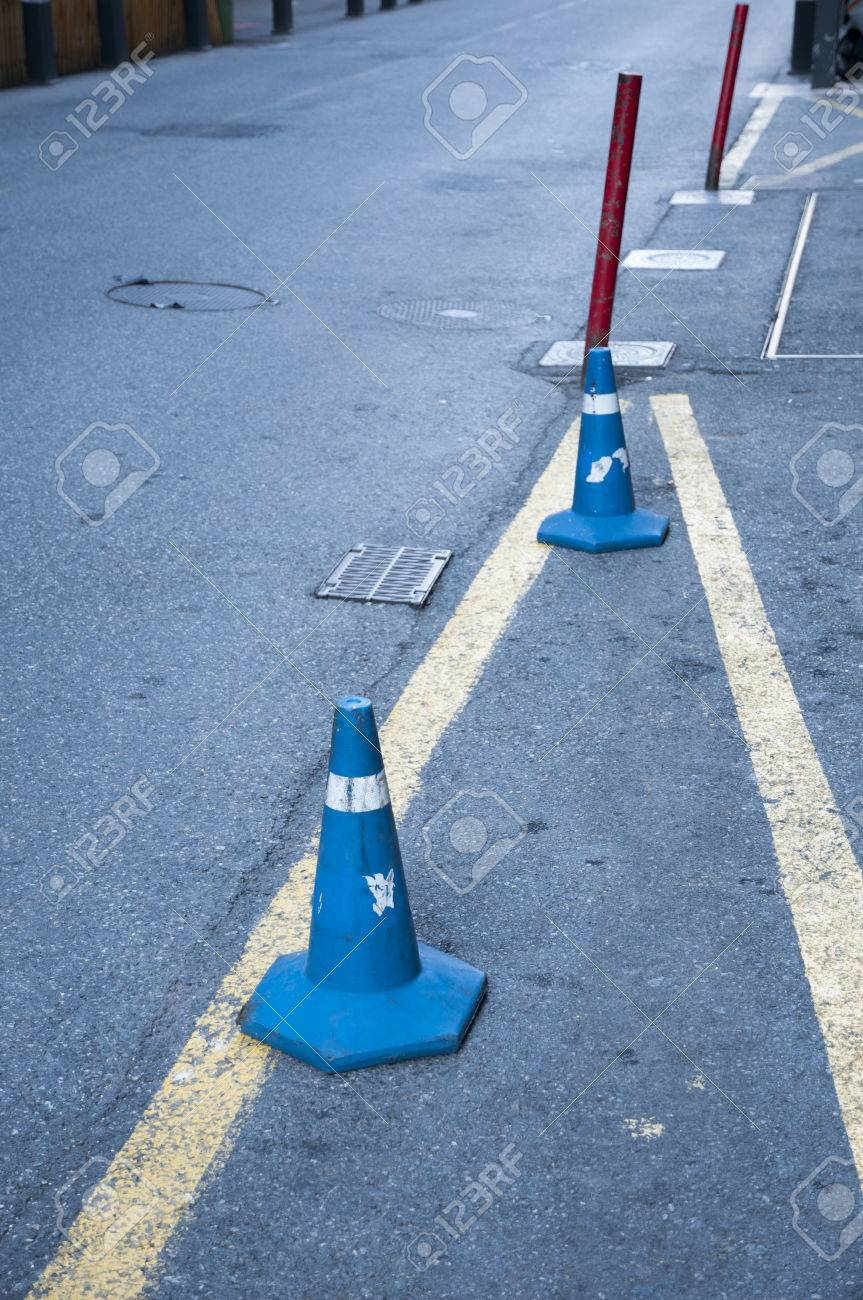cone: (226, 691, 519, 1078), (524, 338, 681, 554)
